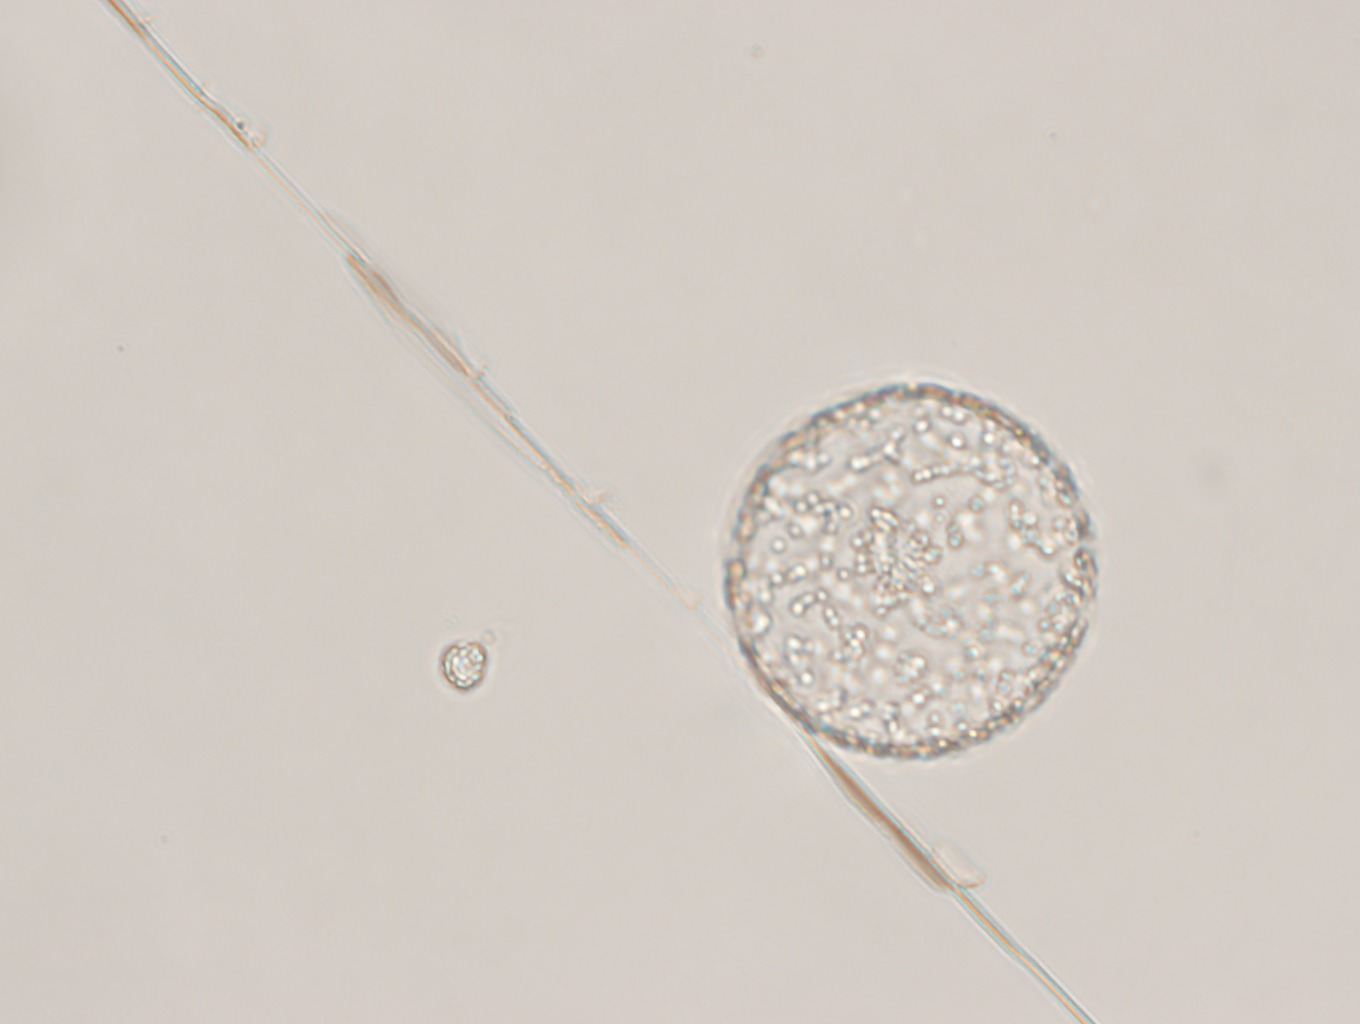coscinodiscus: (720, 379, 1099, 764)
